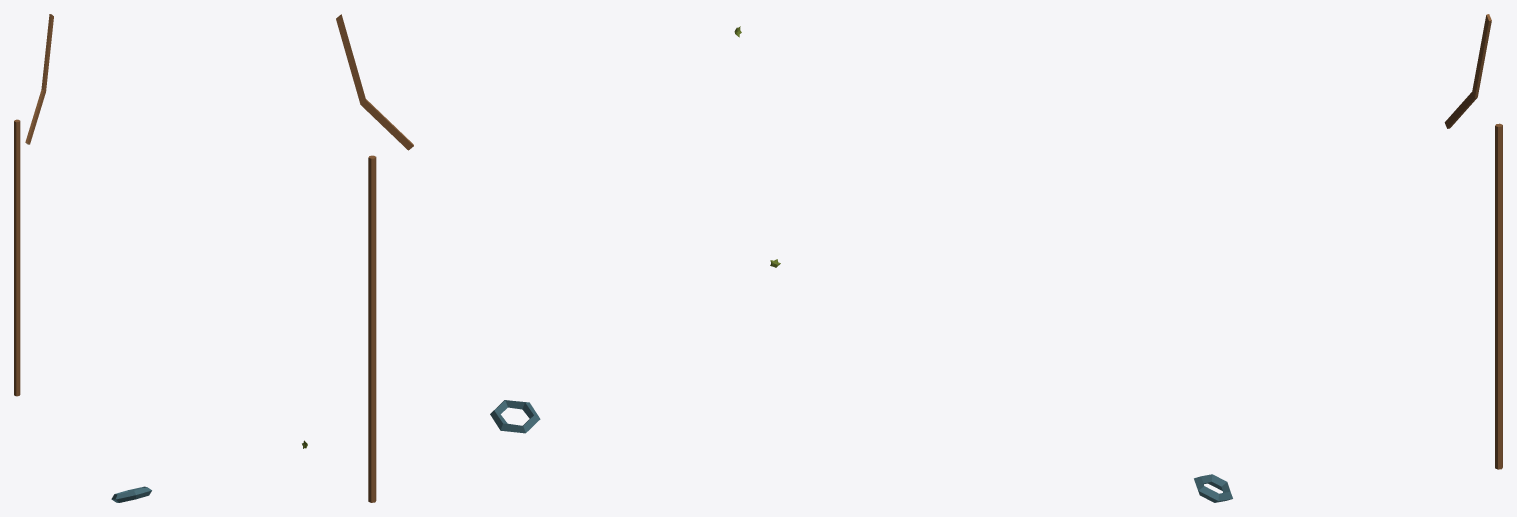
3 renders of one model, left to right at view 1: azimuth 30°, elevation 25°; view 2: azimuth 150°, elevation 25°; view 3: azimuth 270°, elevation 25°, orthographic. The views are drawn at different scales.
Visible parts, largest first — view 1: Cylinder1492_brown_0, Box589_brown_0, Torus014_metal_0; view 2: Cylinder1492_brown_0, Box589_brown_0, Torus014_metal_0; view 3: Cylinder1492_brown_0, Box589_brown_0.
Part boxes in pixels (<box>): Cylinder1492_brown_0: <box>14,119,20,396</box>; Box589_brown_0: <box>25,14,53,144</box>; Torus014_metal_0: <box>111,486,151,502</box>; Cylinder1492_brown_0: <box>368,155,376,502</box>; Box589_brown_0: <box>336,14,413,150</box>; Torus014_metal_0: <box>490,400,540,433</box>; Cylinder1492_brown_0: <box>1495,123,1502,469</box>; Box589_brown_0: <box>1444,14,1491,128</box>.
Size of the model in its own units: 526 by 3977 by 5258.
